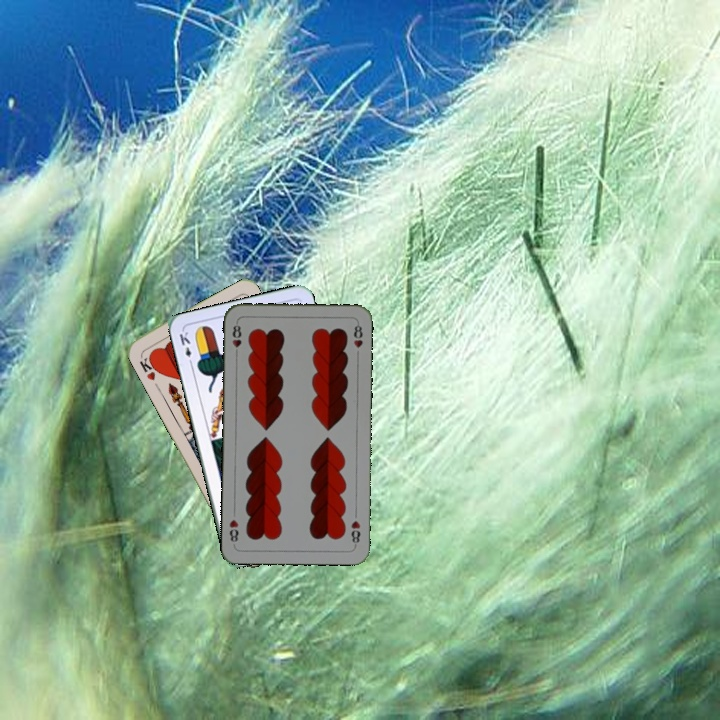EK: (175, 327, 195, 368)
H8: (228, 318, 244, 359), (347, 516, 363, 548)
HK: (136, 350, 163, 383)
